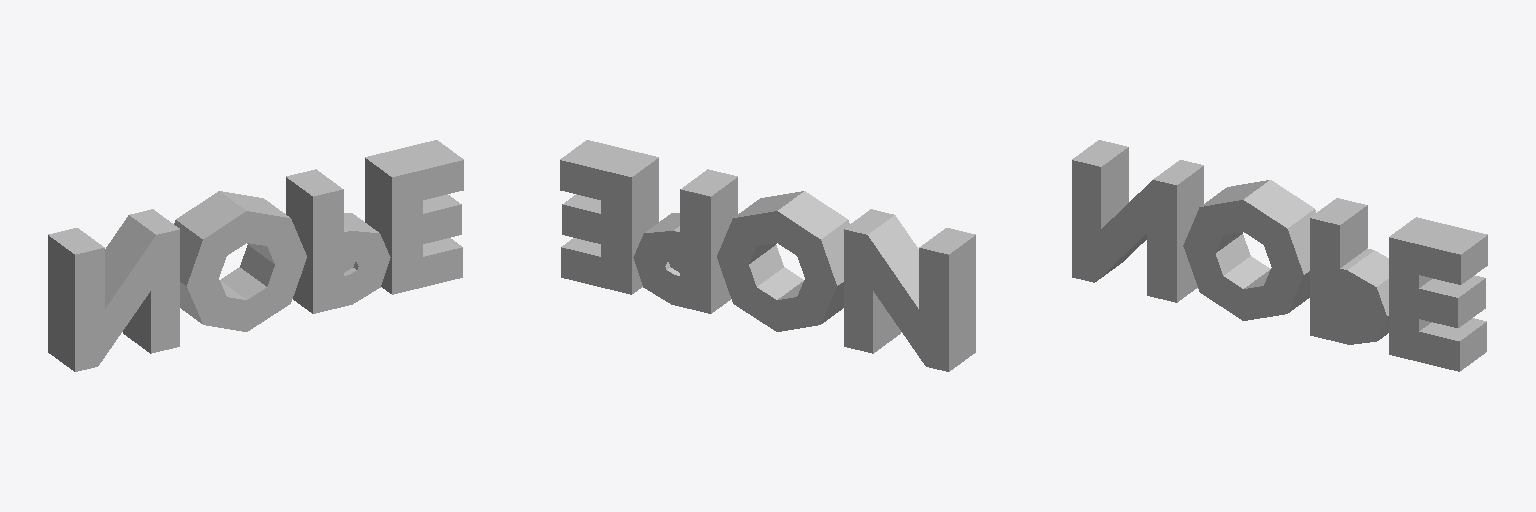
File: error.obj
3 renders of one model, left to right at view 1: azimuth 30°, elevation 25°; view 2: azimuth 150°, elevation 25°; view 3: azimuth 330°, elevation 25°, orthographic.
Parts seen in each view (by area): view 1: Text; view 2: Text; view 3: Text.
Part boxes in pixels (left/top/right/bottom): Text: left=48, top=140, right=463, bottom=371; Text: left=560, top=140, right=975, bottom=371; Text: left=1072, top=140, right=1487, bottom=371.
Size of the model in its own units: 2.78 by 0.8289 by 0.34.